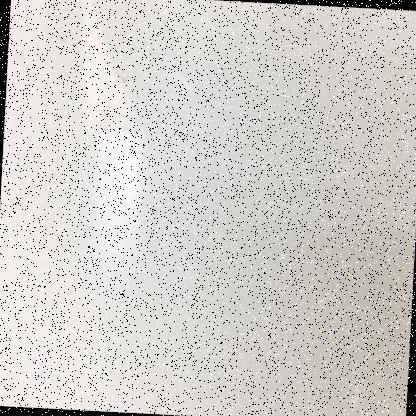Nocrack: (0, 0, 408, 397)
